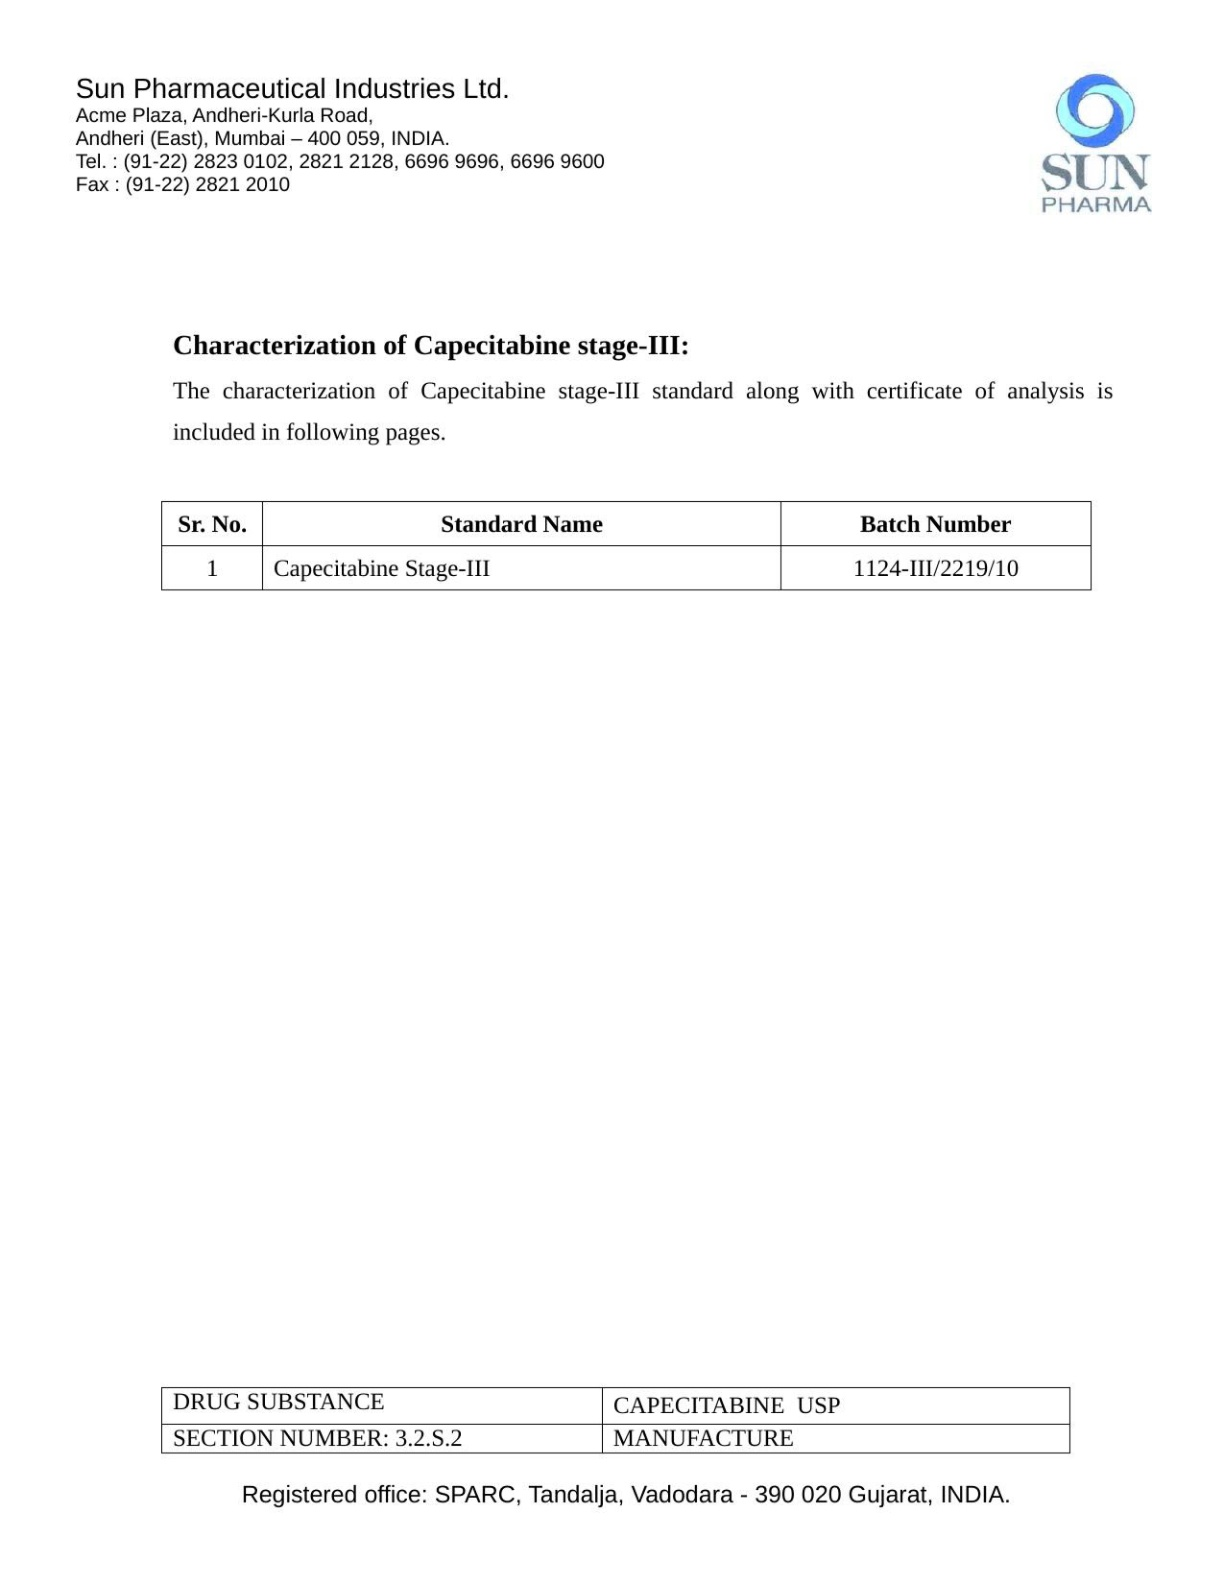full_lined: (159, 500, 1092, 591), (159, 1386, 1071, 1454)
